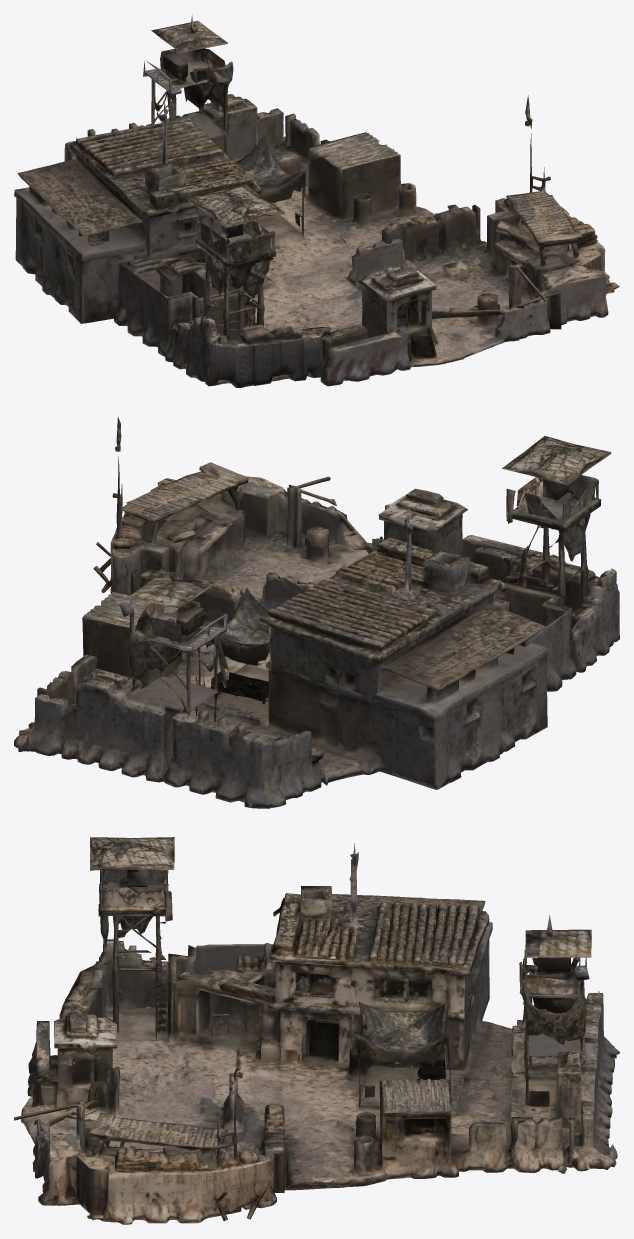
Rendered from ruined military base 3d model.glb.
3 renders of one model, top to bottom at view 1: azimuth 30°, elevation 25°; view 2: azimuth 150°, elevation 25°; view 3: azimuth 270°, elevation 25°, orthographic. The views are drawn at different scales.
Parts seen in each view (by area): view 1: tripo_node_b8a481cc-caa3-4cff-b59a-ca5dffaacc21; view 2: tripo_node_b8a481cc-caa3-4cff-b59a-ca5dffaacc21; view 3: tripo_node_b8a481cc-caa3-4cff-b59a-ca5dffaacc21.
Part boxes in pixels (x1,y1,x2,y2): tripo_node_b8a481cc-caa3-4cff-b59a-ca5dffaacc21: (14, 14, 619, 387); tripo_node_b8a481cc-caa3-4cff-b59a-ca5dffaacc21: (14, 417, 619, 808); tripo_node_b8a481cc-caa3-4cff-b59a-ca5dffaacc21: (14, 837, 619, 1224).
Size of the model in its own units: 0.894 by 0.3654 by 0.9662.
Materials: 1 (1 with a texture image).
